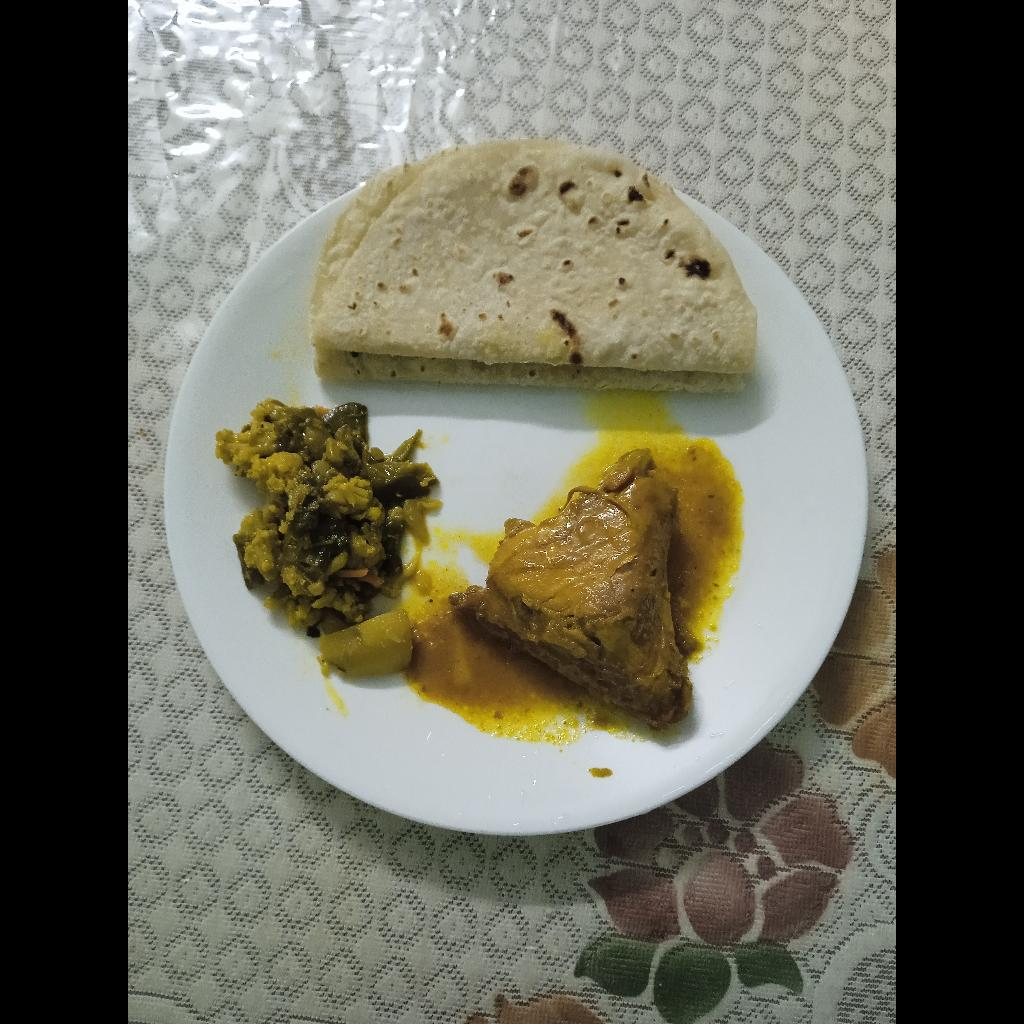chicken: (455, 457, 691, 729)
ruti: (314, 146, 758, 391)
shak: (230, 404, 425, 629)
